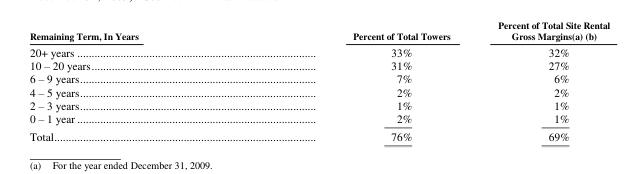table: (28, 28, 596, 143)
table column: (245, 28, 480, 143), (28, 28, 245, 143), (480, 28, 596, 143)
table column header: (28, 28, 596, 43)
table row: (28, 126, 596, 143), (28, 110, 596, 126), (28, 28, 596, 43), (28, 43, 596, 58), (28, 58, 596, 71), (28, 71, 596, 84), (28, 84, 596, 97), (28, 97, 596, 110)
